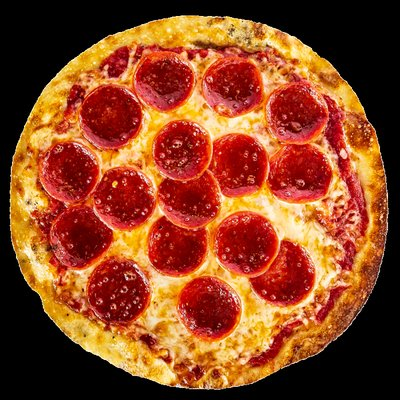sandwich: (10, 15, 390, 392)
